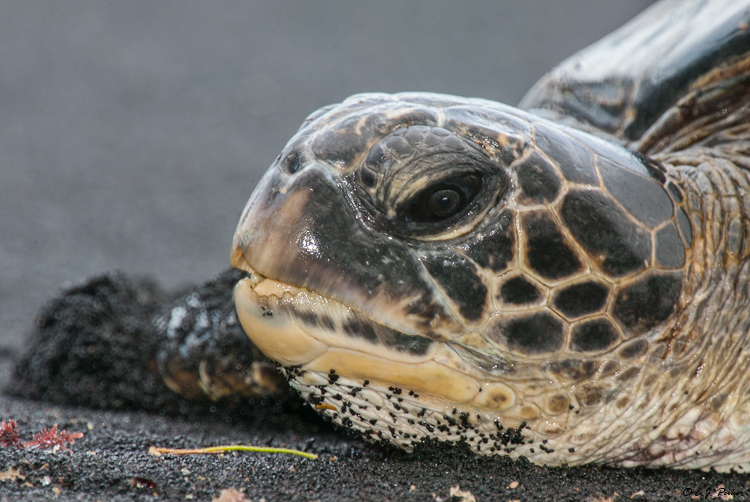eye: (360, 123, 508, 243)
mouth: (230, 247, 518, 381)
